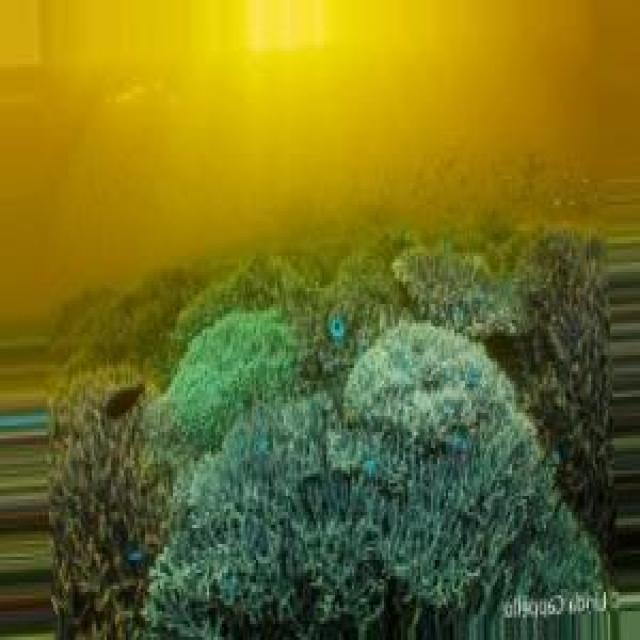Healthy: (46, 225, 624, 640)
